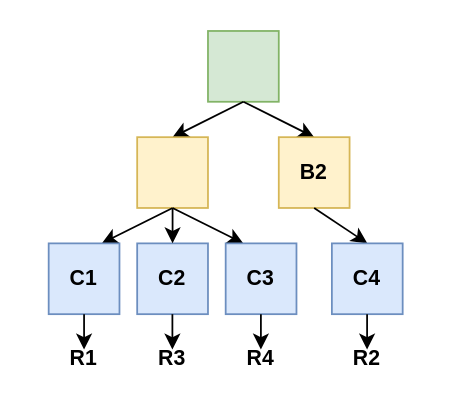
The diagram is 450 pixels wide and 416 high, and some of its shapes have lost their labels. Each missing label, with the centre of its shape:
A1: the point at 242,65
B1: the point at 171,171
